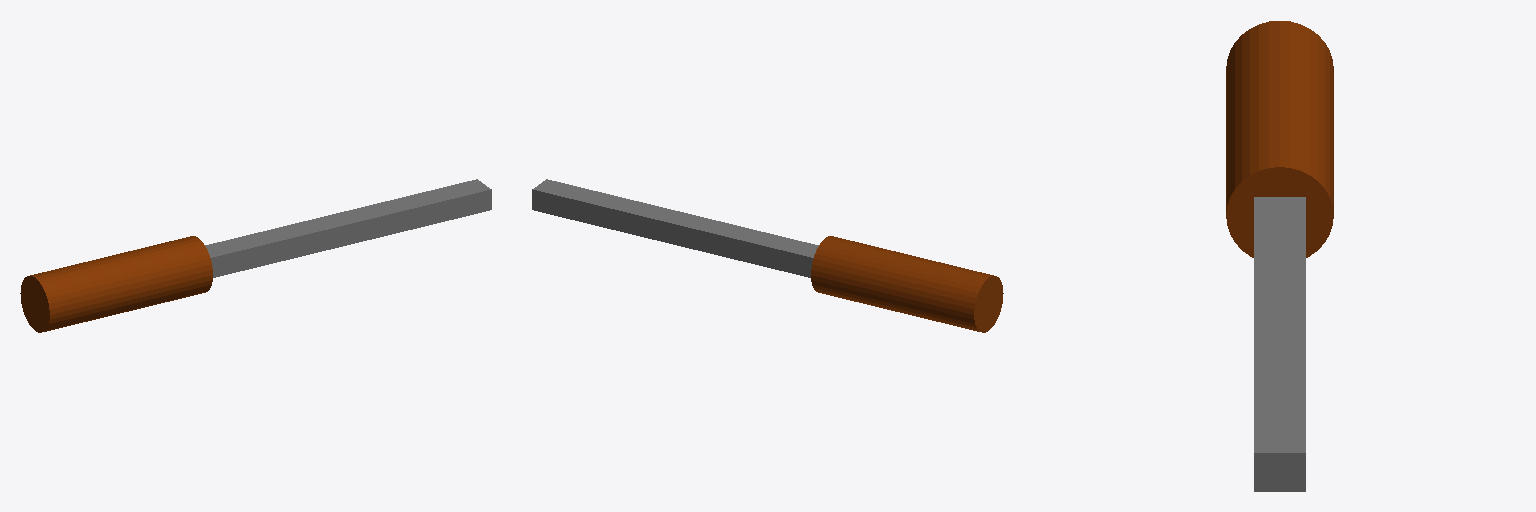
URDF robot description (handle_head):
<?xml version="1.0"?>
<robot name="handle_head">

  <link name="handle_head">
    <!-- Handle -->
    <visual>
              <origin xyz="0 0 0" rpy="0 -1.5707963267948966 0"/>
        <geometry>
          <cylinder length="0.08401912574454351" radius="0.013047317231967467"/>
        </geometry>
        
      <material name="brown">
        <color rgba="0.55 0.27 0.07 1.0"/>
      </material>
    </visual>
    <collision>
              <origin xyz="0 0 0" rpy="0 -1.5707963267948966 0"/>
        <geometry>
          <cylinder length="0.08401912574454351" radius="0.013047317231967467"/>
        </geometry>
        
    </collision>

    <!-- Head -->
    <visual>
              <origin xyz="0.11557159843376438 0 0" rpy="0 0 0"/>
        <geometry>
          <box size="0.14712407112298526 0.01265573141815401 0.0101995799821415"/>
        </geometry>
        
      <material name="gray">
        <color rgba="0.5 0.5 0.5 1.0"/>
      </material>
    </visual>
    <collision>
              <origin xyz="0.11557159843376438 0 0" rpy="0 0 0"/>
        <geometry>
          <box size="0.14712407112298526 0.01265573141815401 0.0101995799821415"/>
        </geometry>
        
    </collision>

    <inertial>
      <origin xyz="0.06891863424378972 0 0" rpy="0 0 0"/>
      <mass value="0.058437075105658806"/>
      <inertia ixx="2.706183355150818e-06" iyy="0.00027245867554305704" izz="0.0002726216933513551" ixy="0" ixz="0" iyz="0"/>
    </inertial>
  </link>

</robot>

--- Facts derived from the render (not from the file) ---
3 views of the same robot in one strip: view 1: azimuth 30°, elevation 25°; view 2: azimuth 150°, elevation 25°; view 3: azimuth 270°, elevation 25° (orthographic).
Robot: handle_head — 1 links, 0 joints (none); root link handle_head; default pose: every joint at zero.
Links seen in each view (by area): view 1: handle_head; view 2: handle_head; view 3: handle_head.
Link boxes in pixels (<box>): handle_head: <box>20,179,491,332</box>; handle_head: <box>532,179,1003,332</box>; handle_head: <box>1226,21,1333,491</box>.
Size in the robot's own frame: 0.2311 by 0.0261 by 0.0261 metres.
Geometry: primitives only (box / cylinder / sphere), no mesh files.
